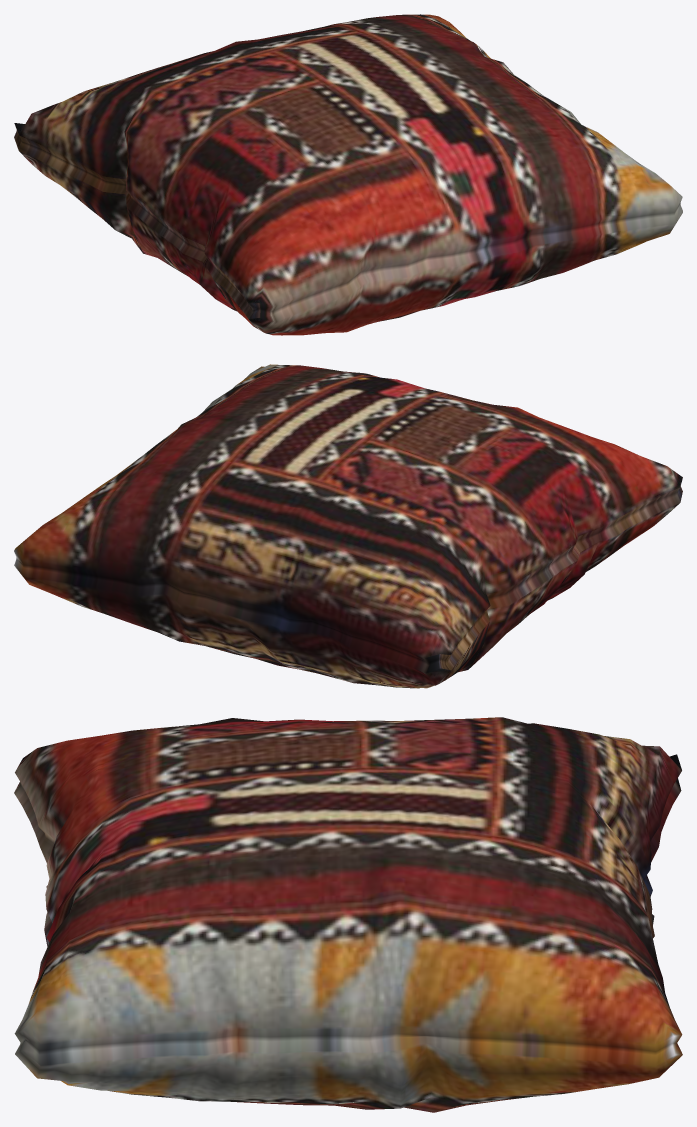
Rendered from 6cussion.glb.
The picture shows the model from 3 angles, top to bottom: view 1: azimuth 30°, elevation 25°; view 2: azimuth 150°, elevation 25°; view 3: azimuth 270°, elevation 25°; orthographic projection. The views are drawn at different scales.
Visible parts, largest first — view 1: cussion; view 2: cussion; view 3: cussion.
Part boxes in pixels (x1,y1,x2,y2): cussion: (14,14,682,335); cussion: (14,364,682,688); cussion: (14,717,682,1112).
Size of the model in its own units: 1.9 by 0.8014 by 1.88.
Materials: 1 (1 with a texture image).
